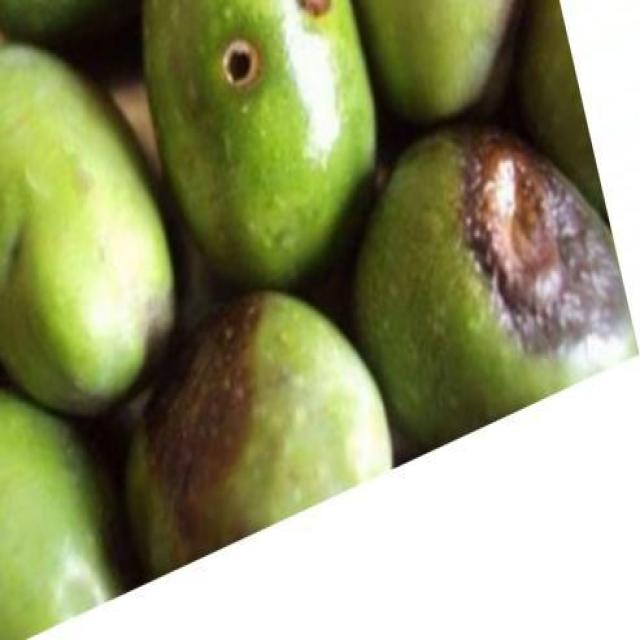Olive Fruit Fly: (357, 125, 635, 447), (129, 293, 392, 575), (144, 0, 374, 256)
